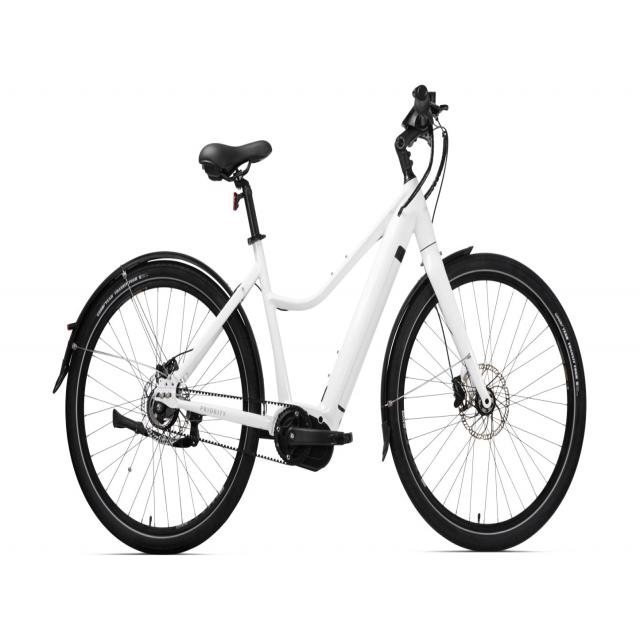bicycle: (45, 44, 597, 572)
